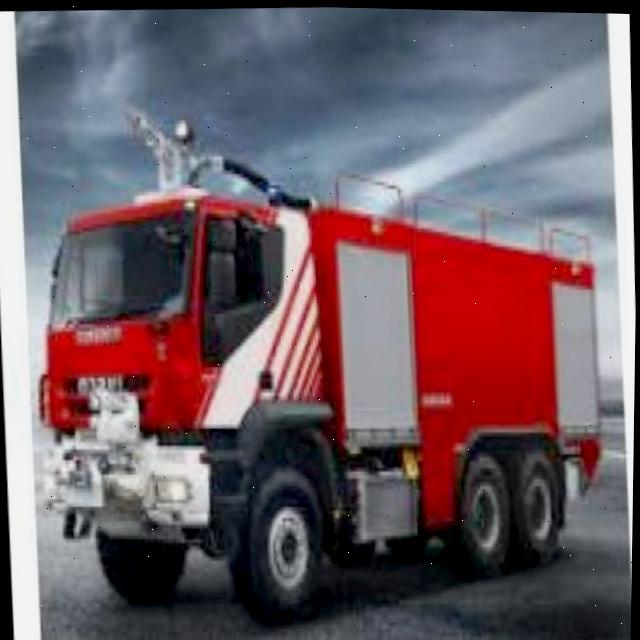emergency: (25, 91, 616, 634)
